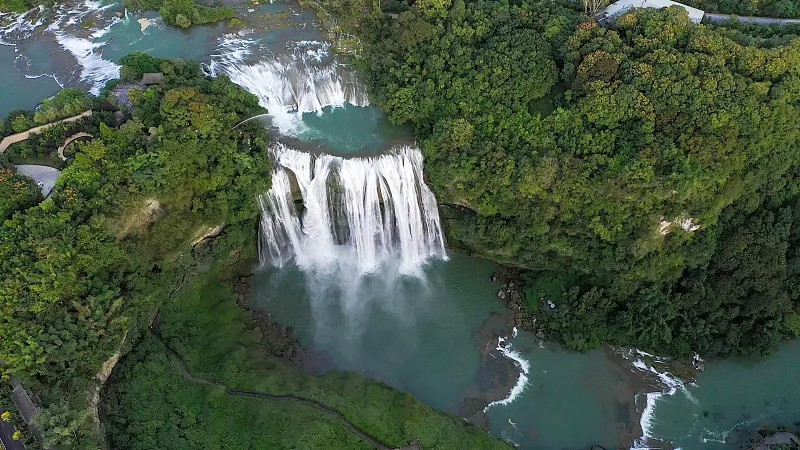Huangguoshu: (254, 72, 450, 273)
